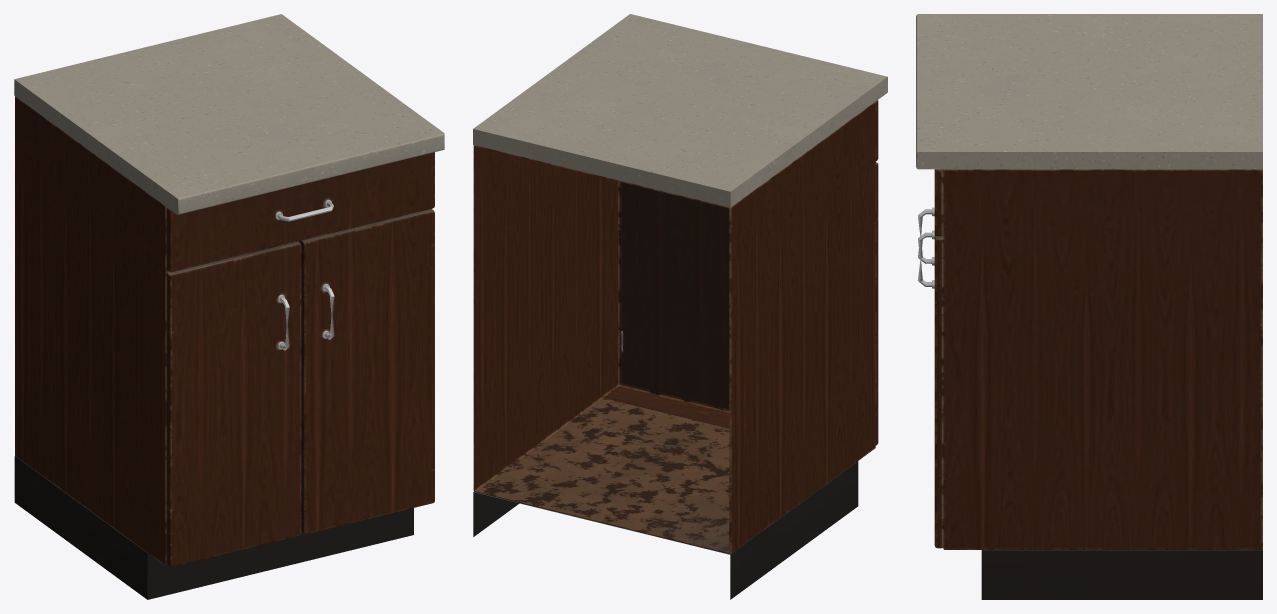
Rendered from kit_base_60.glb.
The picture shows the model from 3 angles, left to right: view 1: azimuth 30°, elevation 25°; view 2: azimuth 150°, elevation 25°; view 3: azimuth 270°, elevation 25°; orthographic projection. The views are drawn at different scales.
Visible parts, largest first — view 1: kit_base_60; view 2: kit_base_60; view 3: kit_base_60.
Boxes of the visible parts, left/top/right/bottom form: kit_base_60: left=14, top=14, right=444, bottom=599; kit_base_60: left=473, top=14, right=887, bottom=599; kit_base_60: left=916, top=14, right=1262, bottom=599.
Bounding box in the file's own units: 0.598 × 0.905 × 0.635.
Materials: 1 (1 with a texture image).
